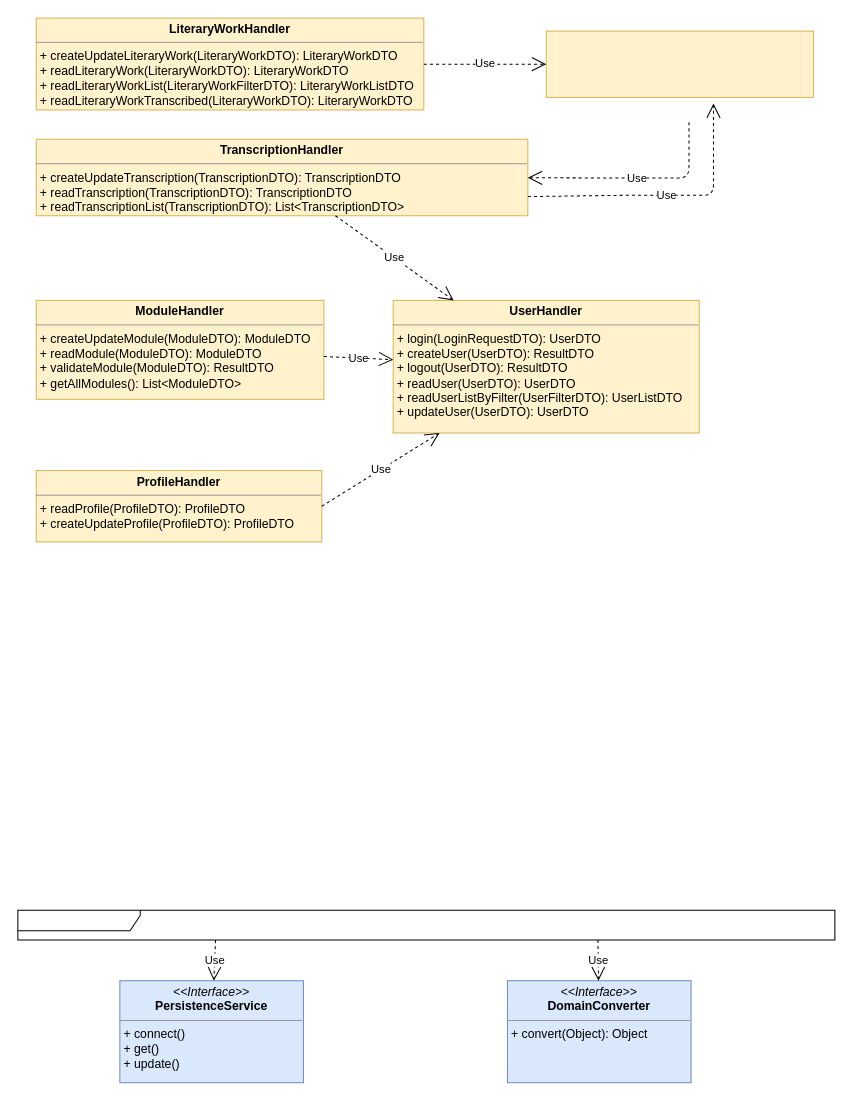
This 853x1101 diagram has some shape labels left out. The centre of each missing label's shape, as x and y in pixels:
"Handler" belongs at [426,924].
"PageHandler + createUpdatePage(PageDTO): PageDTO + readPage(PageDTO): PageDTO" belongs at [679,63].
